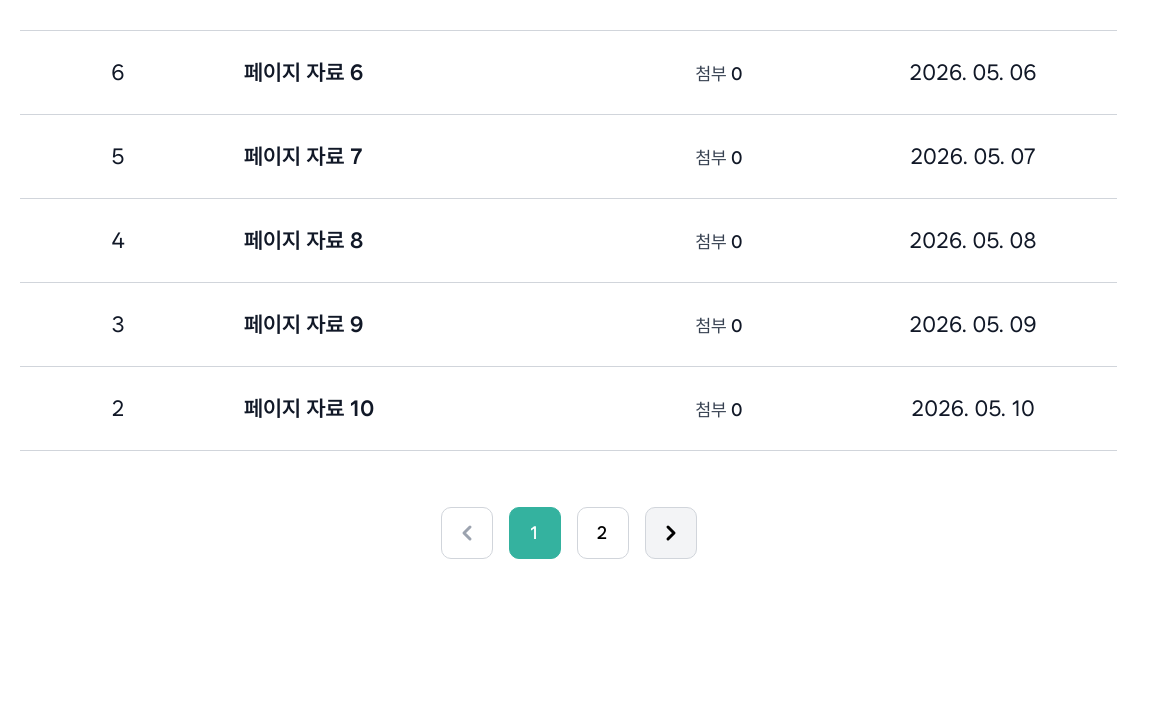
ResourcesPage › paginates resources by ten items per page
(page scrolled)
Expected: the link "페이지 자료 10" is shown, [244,395,374,421]
Expected: the link "페이지 자료 11" is not shown
Click the button "2" at {"x": 602, "y": 532}, box [576,506,628,558]
(page scrolled)
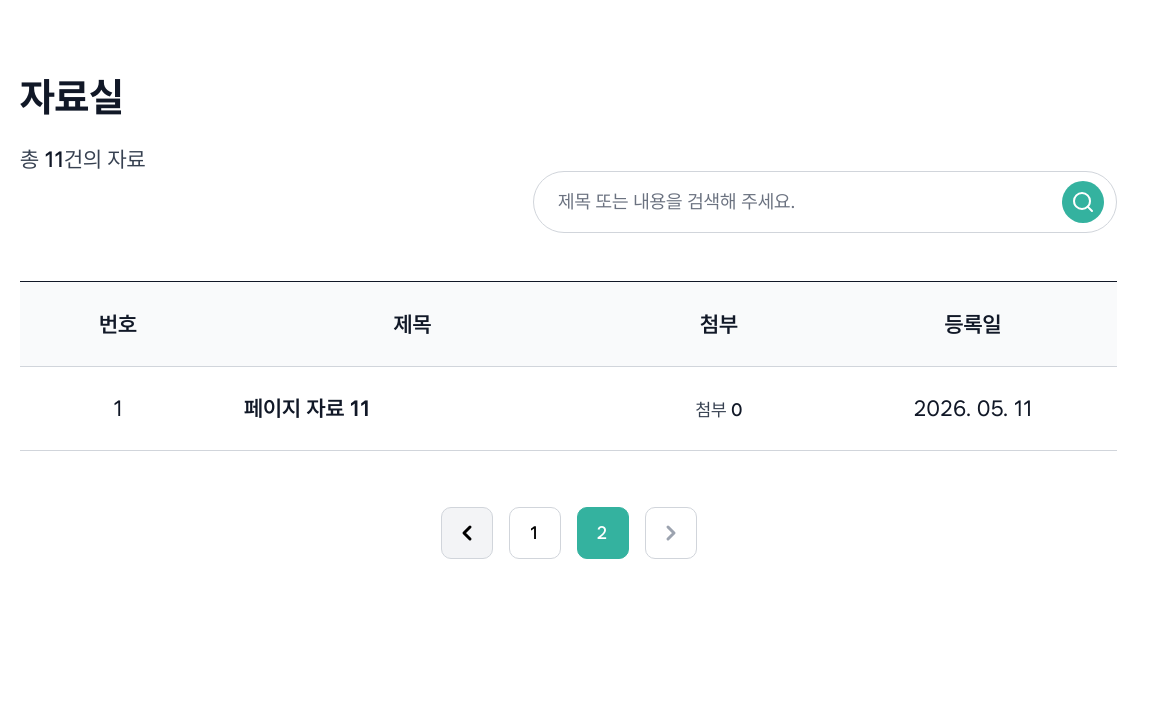
Expected: the link "페이지 자료 11" is shown, [244,395,370,421]
